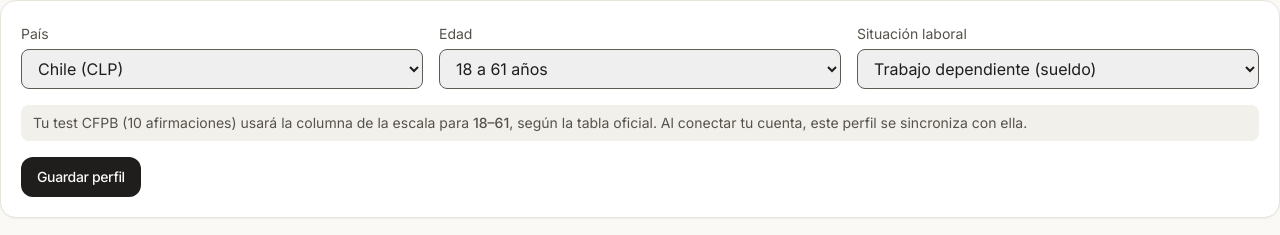
PerfilForm (guardar perfil con sesión simulada) › guarda los valores por defecto (CL, 18_61, dependiente) y registra los eventos una vez
Step 1. Click the button "Guardar perfil" → click(81, 177), box x1=21 y1=157 x2=141 y2=197
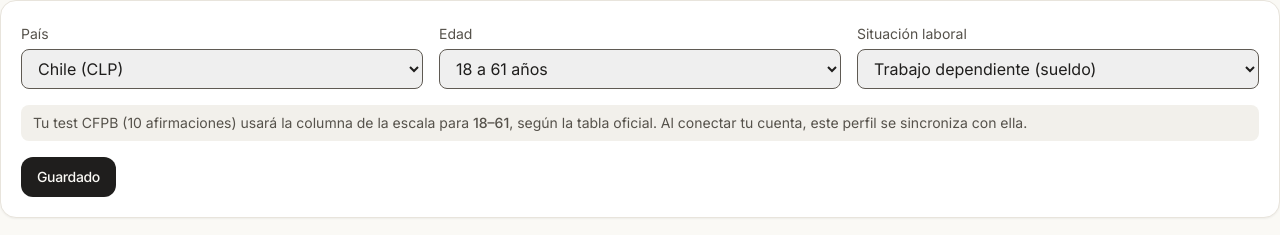
Now the button "Guardado" is shown, box x1=21 y1=157 x2=116 y2=197
